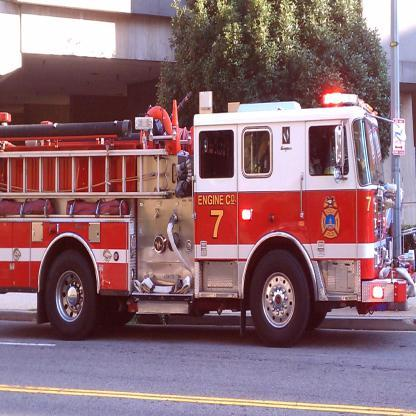fire-truck: (0, 79, 416, 384)
